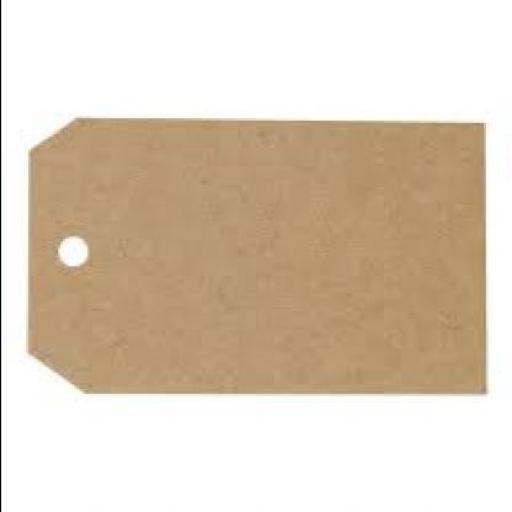cardboard: (24, 123, 482, 396)
